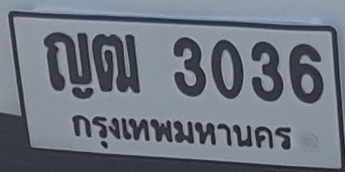txt10: (42, 31, 94, 100)
txt13: (90, 32, 142, 96)
